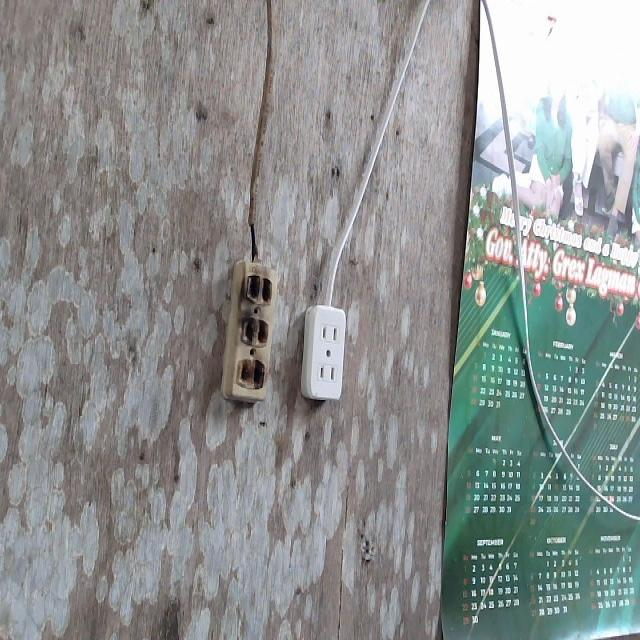-: (233, 272, 269, 397)
